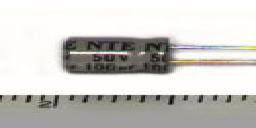Electrolytic-Capacitor: (59, 35, 256, 76)
